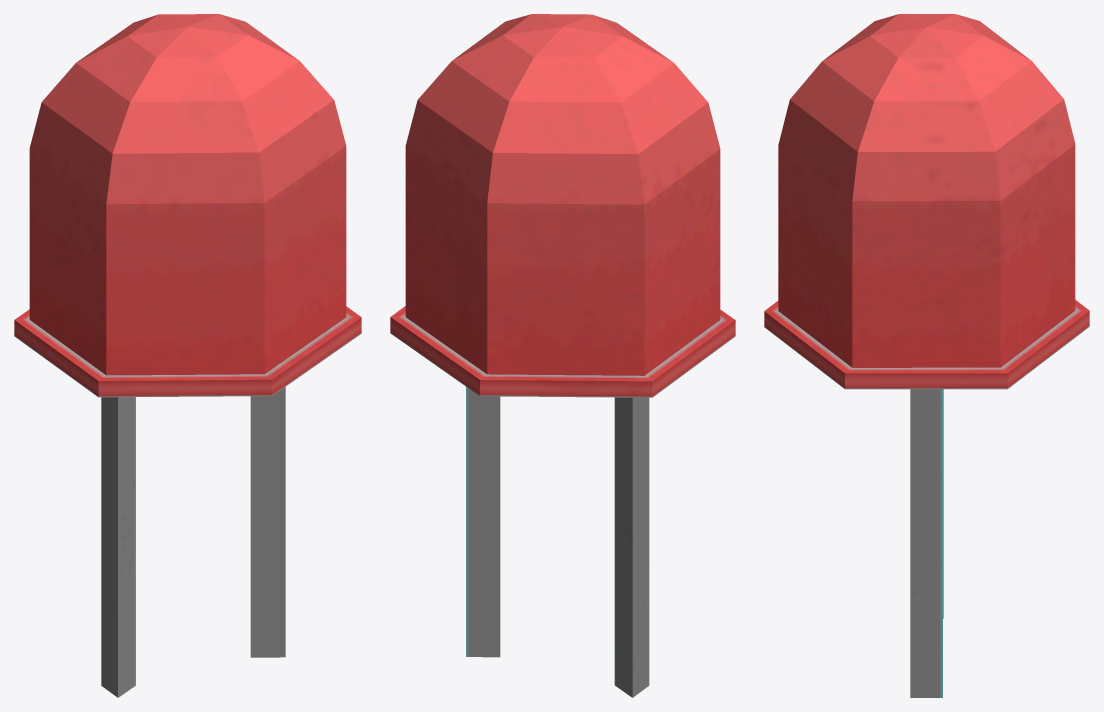
Rendered from LEDRed.obj.
The picture shows the model from 3 angles, left to right: view 1: azimuth 30°, elevation 25°; view 2: azimuth 150°, elevation 25°; view 3: azimuth 270°, elevation 25°; orthographic projection. The views are drawn at different scales.
Visible parts, largest first — view 1: LEDRed_Sphere.011; view 2: LEDRed_Sphere.011; view 3: LEDRed_Sphere.011.
Boxes of the visible parts, box(x1,y1,x2,y2) form: LEDRed_Sphere.011: box(14, 14, 361, 697); LEDRed_Sphere.011: box(390, 14, 735, 697); LEDRed_Sphere.011: box(764, 14, 1089, 697).
Size of the model in its own units: 0.1921 by 0.4509 by 0.2115.
